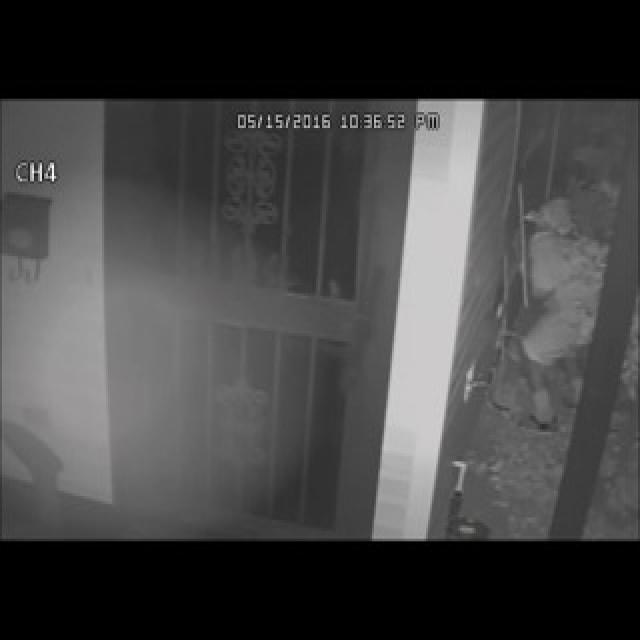thief: (519, 177, 614, 353)
